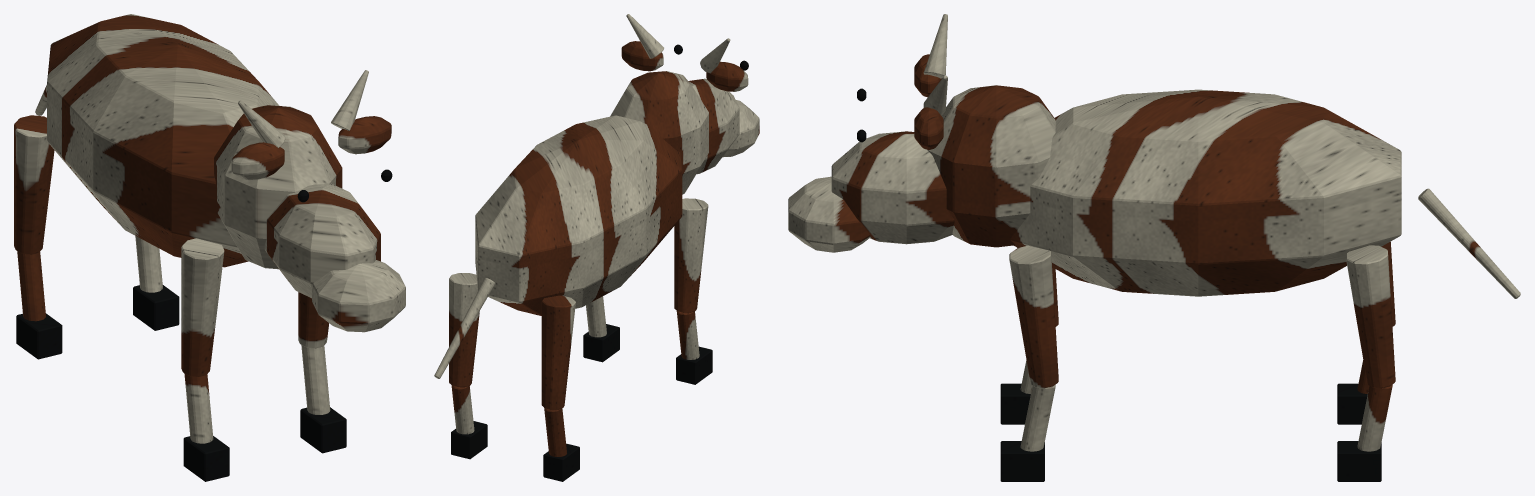
The model's file is PROP-ECF0E30EE86E_lod1.glb.
3 renders of one model, left to right at view 1: azimuth 30°, elevation 25°; view 2: azimuth 150°, elevation 25°; view 3: azimuth 270°, elevation 25°, orthographic. The views are drawn at different scales.
Parts seen in each view (by area): view 1: animal_torso.003, upper_leg.003, animal_neck.003, animal_head.003, hoof.003, lower_leg.003, muzzle.003, animal_ears.003, horn.003; view 2: animal_torso.003, upper_leg.003, animal_neck.003, hoof.003, lower_leg.003, animal_head.003, animal_ears.003, tail.003, horn.003, muzzle.003; view 3: animal_torso.003, animal_neck.003, upper_leg.003, animal_head.003, hoof.003, muzzle.003, lower_leg.003, tail.003, animal_ears.003, horn.003.
Part boxes in pixels (left/top/right/bottom): animal_torso.003: left=47, top=14, right=279, bottom=267; upper_leg.003: left=14, top=115, right=328, bottom=376; animal_neck.003: left=214, top=105, right=342, bottom=269; animal_head.003: left=264, top=183, right=380, bottom=298; hoof.003: left=16, top=285, right=346, bottom=481; lower_leg.003: left=17, top=236, right=330, bottom=443; muzzle.003: left=312, top=260, right=405, bottom=332; animal_ears.003: left=231, top=116, right=391, bottom=180; horn.003: left=238, top=70, right=368, bottom=147; animal_torso.003: left=475, top=115, right=682, bottom=315; upper_leg.003: left=449, top=198, right=708, bottom=409; animal_neck.003: left=610, top=71, right=708, bottom=194; hoof.003: left=451, top=324, right=712, bottom=481; lower_leg.003: left=451, top=296, right=699, bottom=456; animal_head.003: left=688, top=78, right=739, bottom=174; animal_ears.003: left=621, top=41, right=748, bottom=91; tail.003: left=434, top=278, right=495, bottom=378; horn.003: left=626, top=14, right=730, bottom=73; muzzle.003: left=723, top=100, right=759, bottom=157; animal_torso.003: left=1010, top=89, right=1401, bottom=296; animal_neck.003: left=927, top=85, right=1055, bottom=247; upper_leg.003: left=1009, top=241, right=1395, bottom=388; animal_head.003: left=831, top=131, right=954, bottom=244; hoof.003: left=1000, top=383, right=1381, bottom=481; muzzle.003: left=788, top=176, right=870, bottom=252; lower_leg.003: left=1020, top=360, right=1392, bottom=451; tail.003: left=1418, top=188, right=1520, bottom=298; animal_ears.003: left=914, top=54, right=943, bottom=149; horn.003: left=923, top=14, right=947, bottom=115.
Size of the model in its own units: 0.6657 by 1.5 by 2.48.
Materials: 3 (3 with a texture image).
